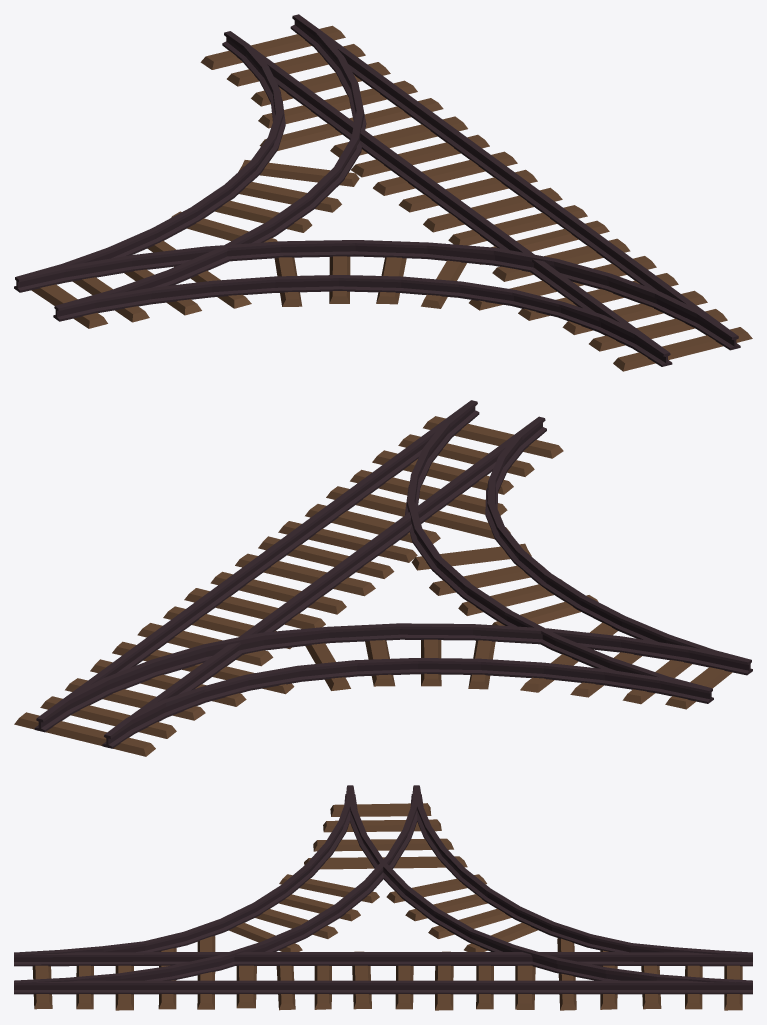
The model's file is railway_t_style_01.fbx.
3 renders of one model, top to bottom at view 1: azimuth 30°, elevation 25°; view 2: azimuth 150°, elevation 25°; view 3: azimuth 270°, elevation 25°, orthographic. The views are drawn at different scales.
Parts seen in each view (by area): view 1: T; view 2: T; view 3: T.
Part boxes in pixels (x1=…): T: x1=14, y1=14, x2=752, y2=371; T: x1=14, y1=400, x2=752, y2=756; T: x1=14, y1=785, x2=752, y2=1010.
Bounding box in the file's own units: 605 × 22.45 × 900.
